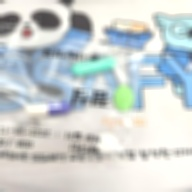러키펜정: (94, 133, 118, 152)
씨엠지세파클러캡슐: (25, 103, 73, 118)
에르도캡슐: (71, 58, 116, 76)
휴티렌정: (114, 85, 135, 113)
